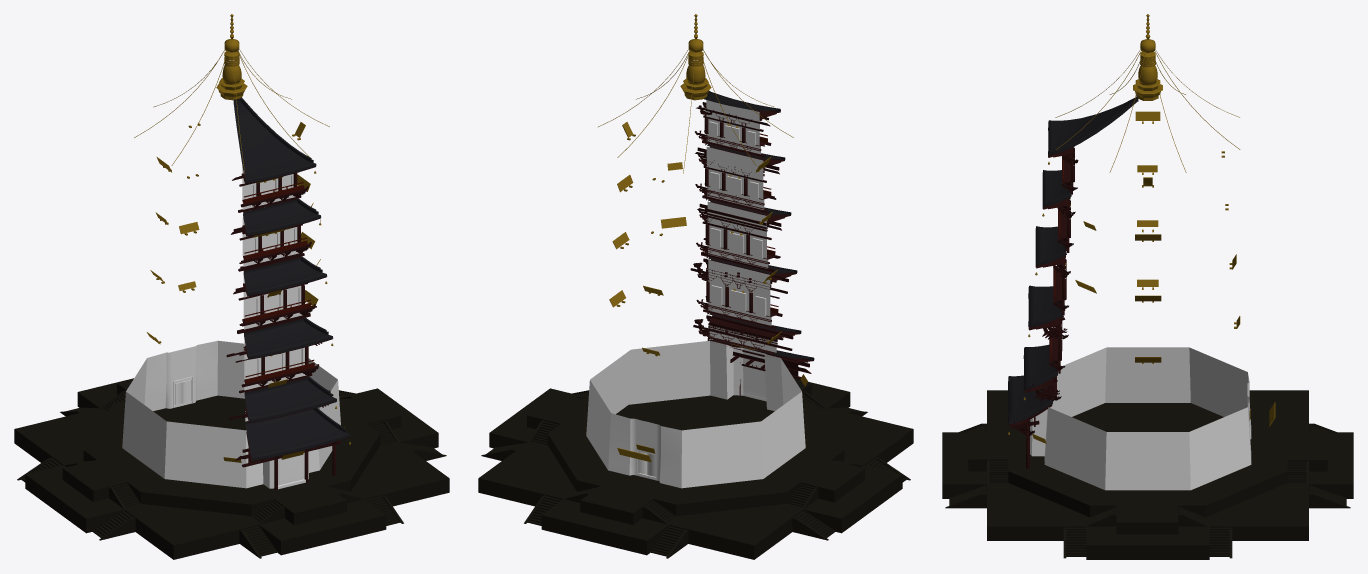
Rendered from xmt_exterior.FBX.
3 renders of one model, left to right at view 1: azimuth 30°, elevation 25°; view 2: azimuth 150°, elevation 25°; view 3: azimuth 270°, elevation 25°, orthographic.
Parts seen in each view (by area): view 1: base, roofs, f1_other, f1_back, woods, walls, fences, paibian, top_006; view 2: base, f1_other, walls, woods, f1_back, paibian, roofs, top_006; view 3: base, f1_other, roofs, woods, paibian, top_006, f1_back.
Boxes of the visible parts, x1,y1,x2,y2 form: base: (14,378,449,559); roofs: (233,97,350,460); f1_other: (122,340,340,488); f1_back: (144,340,319,489); woods: (226,166,349,489); walls: (242,166,306,421); fences: (243,182,314,383); paibian: (147,122,344,462); top_006: (134,49,329,173); base: (478,378,913,559); f1_other: (586,340,805,488); walls: (706,100,776,352); woods: (690,102,813,395); f1_back: (608,341,783,488); paibian: (609,122,807,462); roofs: (704,91,814,360); top_006: (598,49,793,173); base: (942,390,1353,559); f1_other: (1044,347,1251,490); roofs: (1008,95,1138,427); woods: (1009,146,1078,468); paibian: (1032,111,1275,443); top_006: (1055,49,1240,172); f1_back: (1030,374,1251,460).
Bounding box in the file's own units: 5647 × 6953 × 5647.
